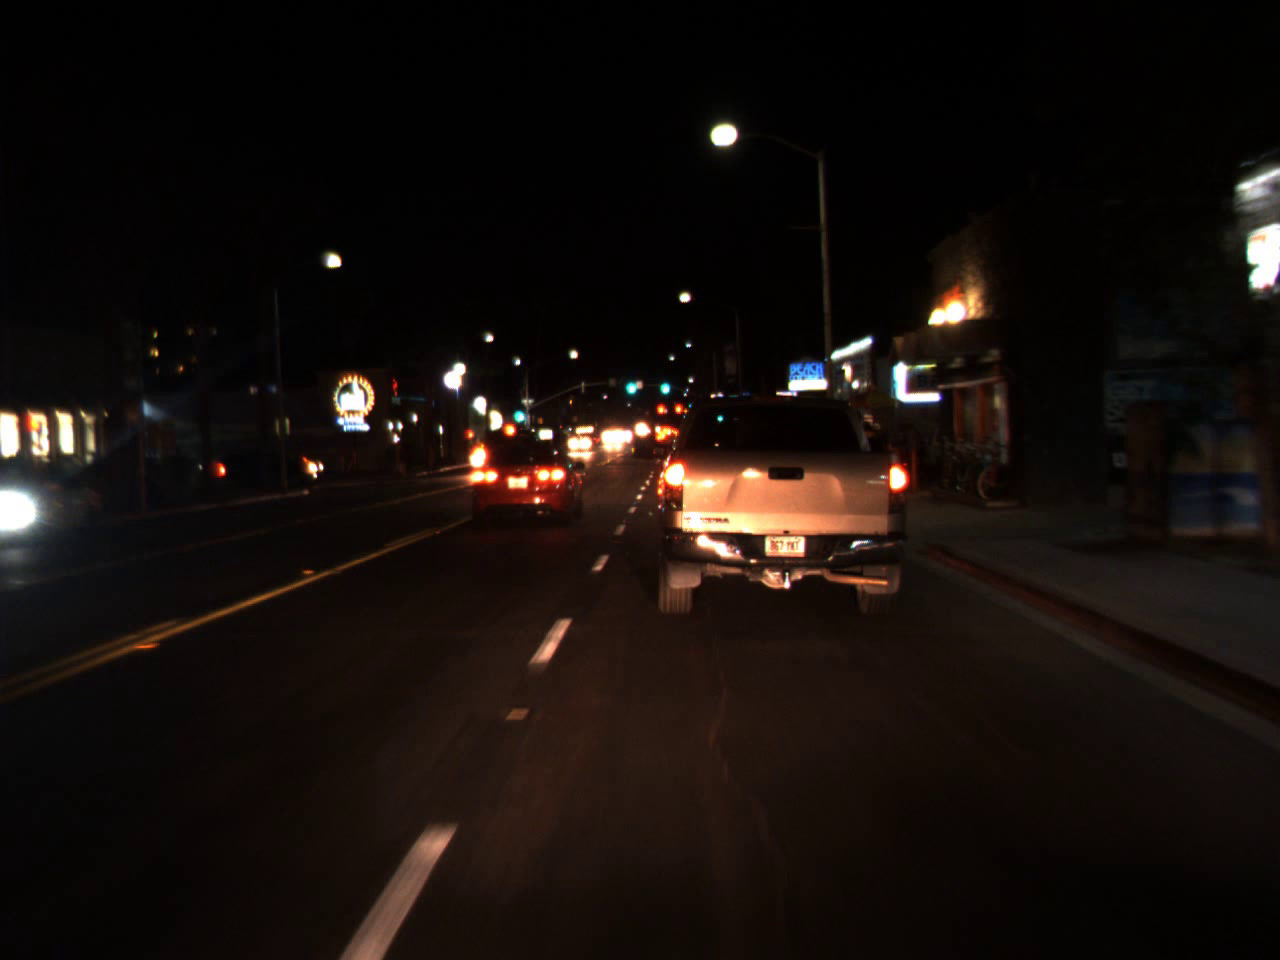go: (657, 369, 671, 399), (622, 371, 638, 395), (512, 398, 526, 425)
